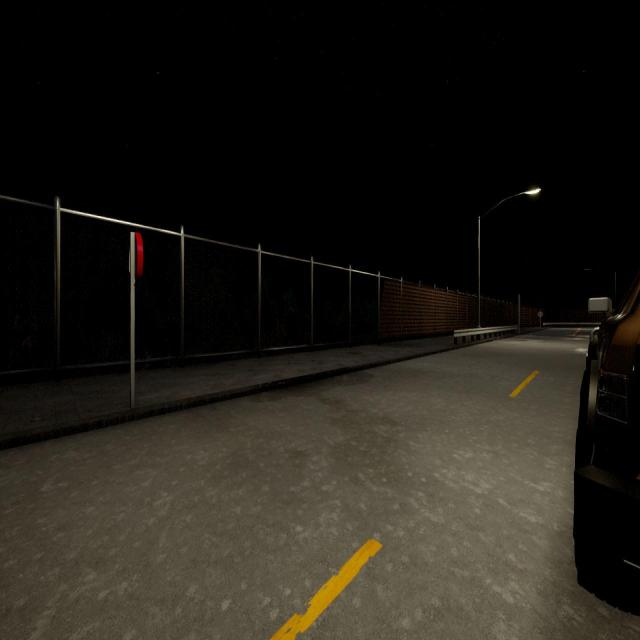Traffic_Signs: (128, 232, 144, 276), (537, 311, 543, 317)
Vehicle: (574, 272, 640, 612)
